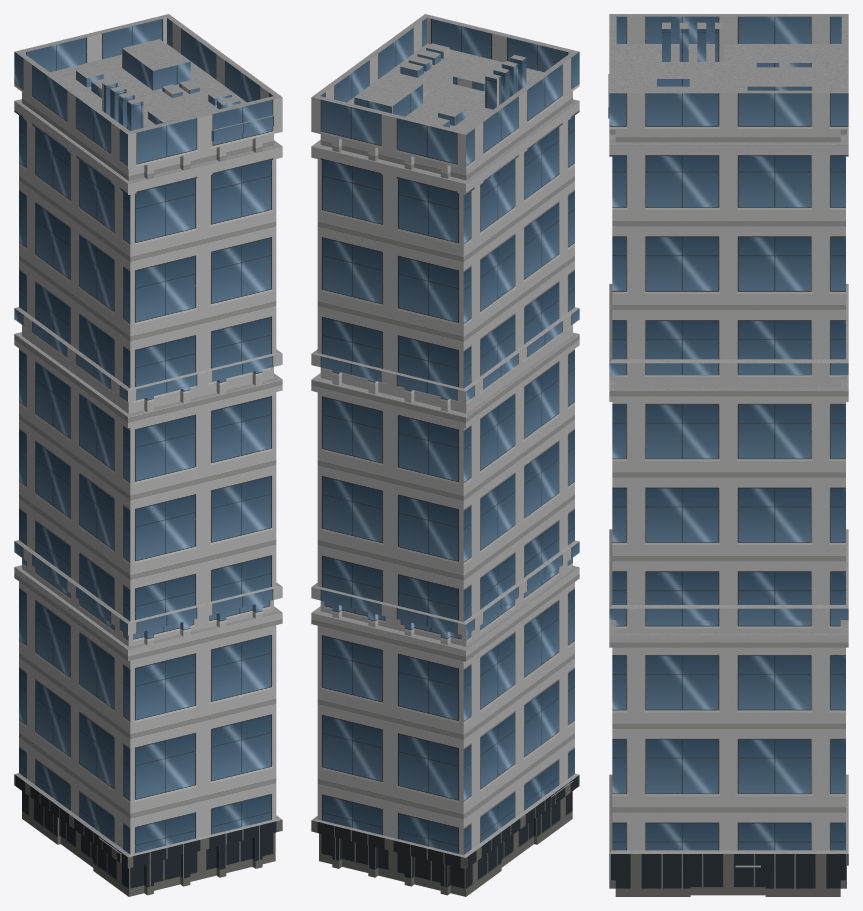
Rendered from Immeuble_2.obj.
3 renders of one model, left to right at view 1: azimuth 30°, elevation 25°; view 2: azimuth 150°, elevation 25°; view 3: azimuth 270°, elevation 25°, orthographic. The views are drawn at different scales.
Visible parts, largest first — view 1: Immeuble; view 2: Immeuble; view 3: Immeuble.
Part boxes in pixels (left/top/right/bottom): Immeuble: left=14, top=14, right=282, bottom=896; Immeuble: left=311, top=14, right=579, bottom=896; Immeuble: left=608, top=14, right=848, bottom=896.
Size of the model in its own units: 6.54 by 31 by 8.33.
3 materials, 3 textured.
